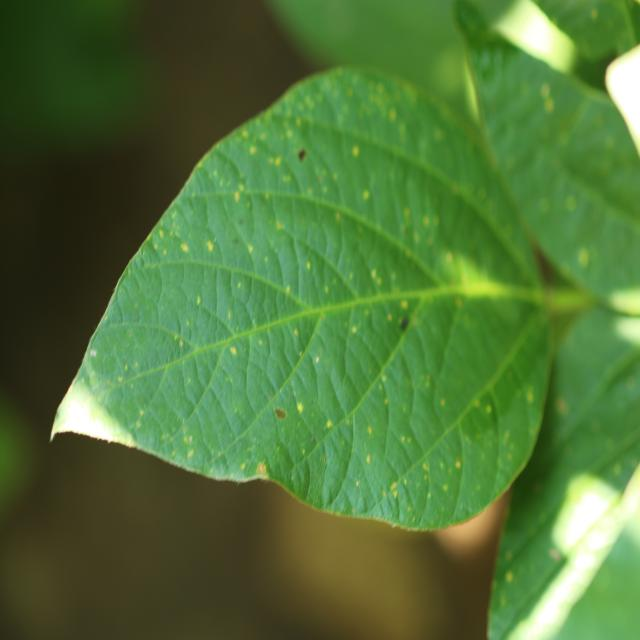Soybean: (0, 0, 640, 640)
downey_mildew: (254, 259, 375, 465), (429, 298, 543, 473), (129, 268, 245, 427), (535, 306, 637, 474), (270, 116, 427, 215), (255, 186, 383, 300), (379, 294, 471, 450), (71, 318, 192, 429), (547, 179, 640, 310), (254, 246, 347, 369), (547, 103, 637, 227), (185, 193, 284, 293), (439, 383, 507, 519), (263, 362, 330, 495), (395, 160, 466, 268), (413, 405, 464, 524), (138, 262, 220, 327), (162, 300, 248, 356), (188, 148, 259, 213)
